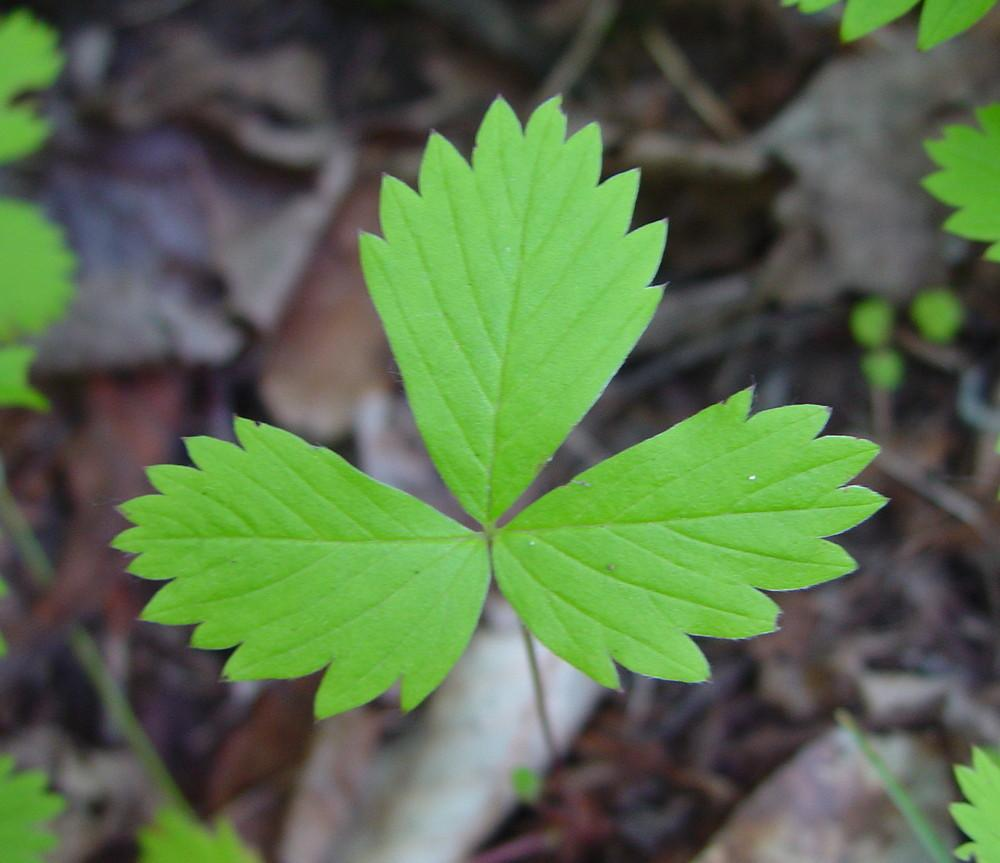Strawberry leaf: (357, 80, 685, 523), (482, 372, 895, 705), (99, 425, 496, 710)
